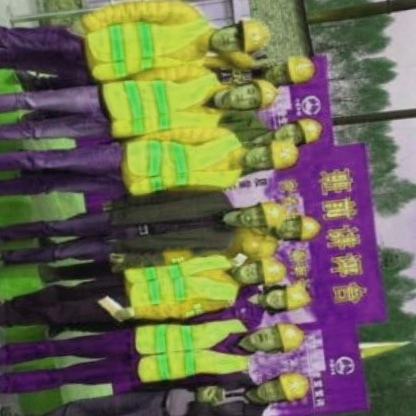red: (233, 11, 277, 55), (269, 314, 312, 358), (284, 48, 324, 90), (245, 73, 283, 116), (272, 367, 314, 404), (276, 280, 316, 317), (268, 134, 302, 175), (291, 207, 328, 244), (254, 256, 294, 289), (258, 194, 293, 230), (294, 112, 329, 145)
vest: (113, 121, 246, 203), (85, 6, 219, 84), (105, 63, 234, 143), (134, 311, 256, 383), (118, 249, 242, 318)
